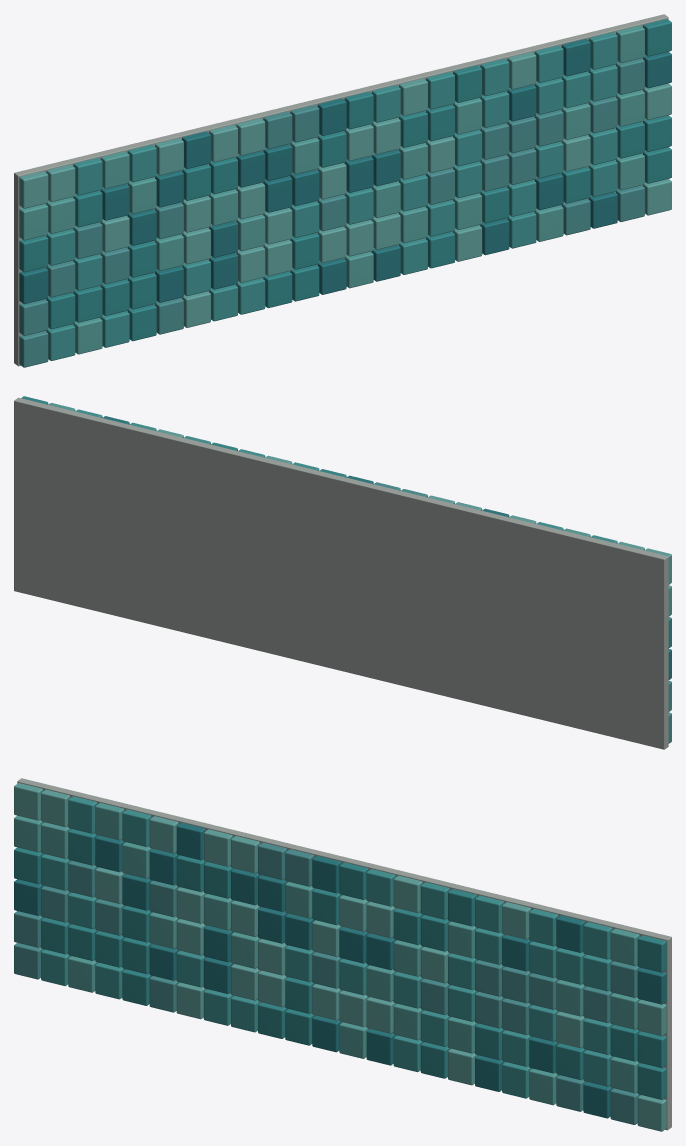
File: ceramic-waterline.glb
3 views of the same model, one above another, from view 1: azimuth 30°, elevation 25°; view 2: azimuth 150°, elevation 25°; view 3: azimuth 330°, elevation 25° (orthographic).
Visible parts, largest first — view 1: grouted-tile-backing, glazed-mosaic-tessera.120, glazed-mosaic-tessera.048, glazed-mosaic-tessera, glazed-mosaic-tessera.024, glazed-mosaic-tessera.096, glazed-mosaic-tessera.072, glazed-mosaic-tessera.122, glazed-mosaic-tessera.137, glazed-mosaic-tessera.130, glazed-mosaic-tessera.133, glazed-mosaic-tessera.140 (+133 smaller); view 2: grouted-tile-backing; view 3: grouted-tile-backing, glazed-mosaic-tessera.143, glazed-mosaic-tessera.071, glazed-mosaic-tessera.023, glazed-mosaic-tessera.047, glazed-mosaic-tessera.119, glazed-mosaic-tessera.095, glazed-mosaic-tessera.141, glazed-mosaic-tessera.126, glazed-mosaic-tessera.123, glazed-mosaic-tessera.130, glazed-mosaic-tessera.133 (+133 smaller).
Part boxes in pixels (x1=…): grouted-tile-backing: x1=14, y1=14, x2=668, y2=366; glazed-mosaic-tessera.120: x1=19, y1=171, x2=48, y2=208; glazed-mosaic-tessera.048: x1=19, y1=267, x2=48, y2=304; glazed-mosaic-tessera: x1=19, y1=331, x2=48, y2=367; glazed-mosaic-tessera.024: x1=19, y1=299, x2=48, y2=335; glazed-mosaic-tessera.096: x1=19, y1=204, x2=48, y2=240; glazed-mosaic-tessera.072: x1=19, y1=235, x2=48, y2=272; glazed-mosaic-tessera.122: x1=73, y1=158, x2=102, y2=195; glazed-mosaic-tessera.137: x1=480, y1=58, x2=509, y2=96; glazed-mosaic-tessera.130: x1=290, y1=105, x2=319, y2=142; glazed-mosaic-tessera.133: x1=371, y1=85, x2=400, y2=122; glazed-mosaic-tessera.140: x1=561, y1=39, x2=590, y2=76; grouted-tile-backing: x1=14, y1=397, x2=668, y2=749; grouted-tile-backing: x1=17, y1=778, x2=671, y2=1130; glazed-mosaic-tessera.143: x1=637, y1=935, x2=666, y2=972; glazed-mosaic-tessera.071: x1=637, y1=1031, x2=666, y2=1068; glazed-mosaic-tessera.023: x1=637, y1=1095, x2=666, y2=1131; glazed-mosaic-tessera.047: x1=637, y1=1063, x2=666, y2=1099; glazed-mosaic-tessera.119: x1=637, y1=968, x2=666, y2=1004; glazed-mosaic-tessera.095: x1=637, y1=999, x2=666, y2=1036; glazed-mosaic-tessera.141: x1=583, y1=922, x2=612, y2=959; glazed-mosaic-tessera.126: x1=176, y1=822, x2=205, y2=860; glazed-mosaic-tessera.123: x1=95, y1=803, x2=124, y2=840; glazed-mosaic-tessera.130: x1=285, y1=849, x2=314, y2=886; glazed-mosaic-tessera.133: x1=366, y1=869, x2=395, y2=906.
Bounding box in the file's own units: 1 × 0.28 × 0.024.
